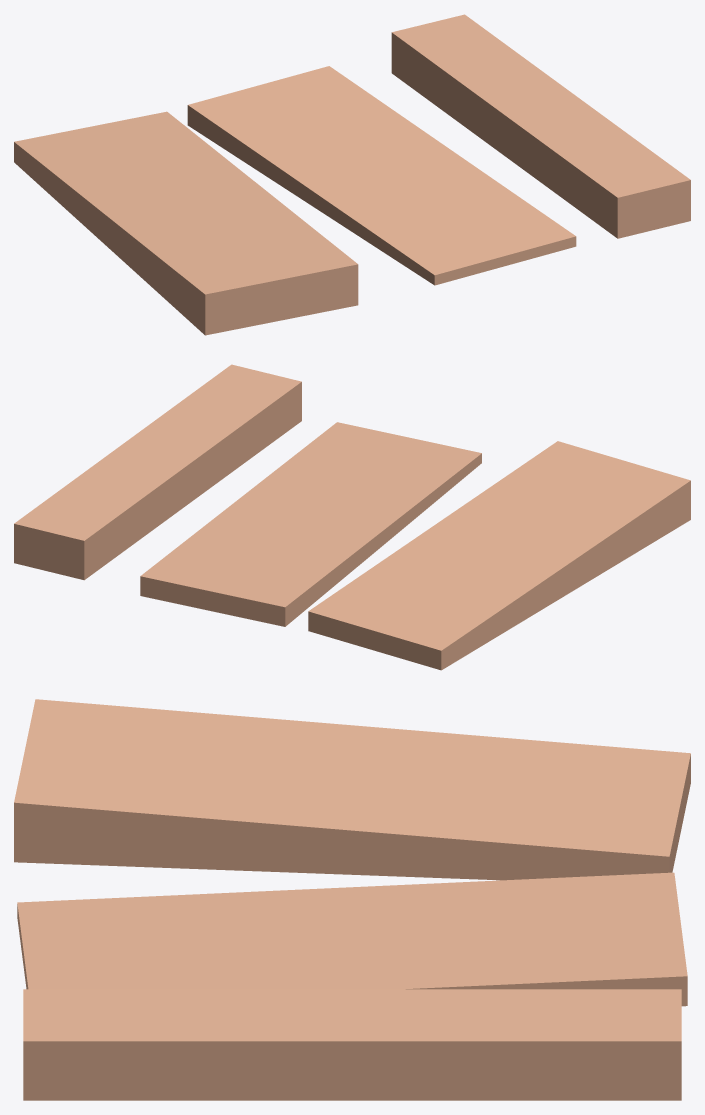
File: path_woodEnd.glb
3 views of the same model, one above another, from view 1: azimuth 30°, elevation 25°; view 2: azimuth 150°, elevation 25°; view 3: azimuth 270°, elevation 25° (orthographic). The views are drawn at different scales.
Visible parts, largest first — view 1: path_woodEnd; view 2: path_woodEnd; view 3: path_woodEnd.
Boxes of the visible parts, box(x1,y1,x2,y2) form: path_woodEnd: box(14, 14, 690, 335); path_woodEnd: box(14, 364, 690, 670); path_woodEnd: box(14, 699, 690, 1100).
Size of the model in its own units: 0.6148 by 0.05 by 0.5144.
Materials: 1 (1 with a texture image).
